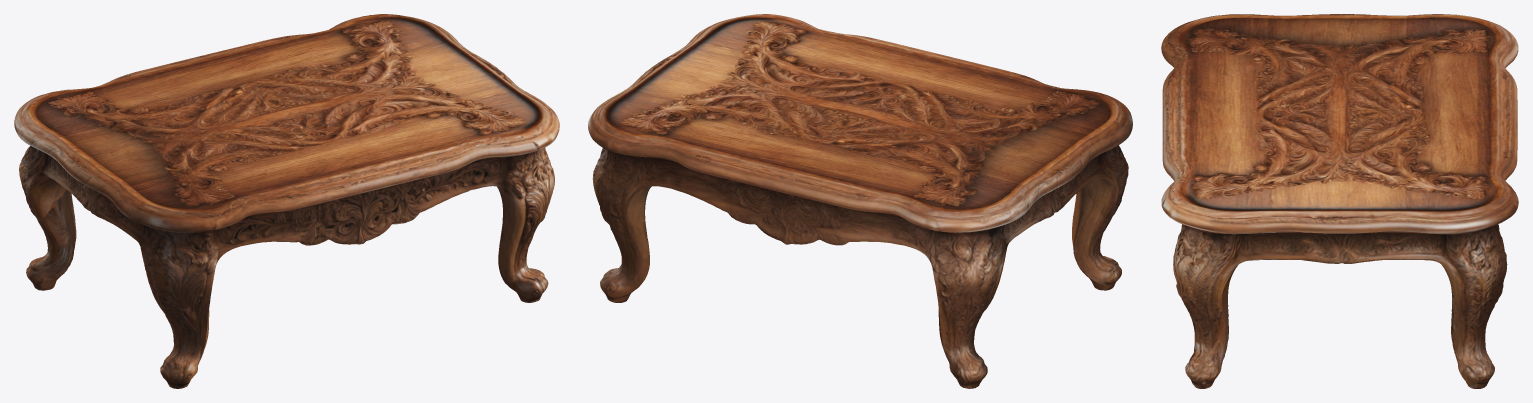
Rendered from wooden_table.glb.
3 views of the same model, side by side, from view 1: azimuth 30°, elevation 25°; view 2: azimuth 150°, elevation 25°; view 3: azimuth 270°, elevation 25° (orthographic). The views are drawn at different scales.
Visible parts, largest first — view 1: tmpsov9uo5q.ply_Material.001_0; view 2: tmpsov9uo5q.ply_Material.001_0; view 3: tmpsov9uo5q.ply_Material.001_0.
Part boxes in pixels (x1,y1,x2,y2): tmpsov9uo5q.ply_Material.001_0: (14,14,559,388); tmpsov9uo5q.ply_Material.001_0: (588,14,1132,388); tmpsov9uo5q.ply_Material.001_0: (1161,14,1518,388).
Bounding box in the file's own units: 2 × 0.8225 × 1.43.
1 material, 1 textured.
